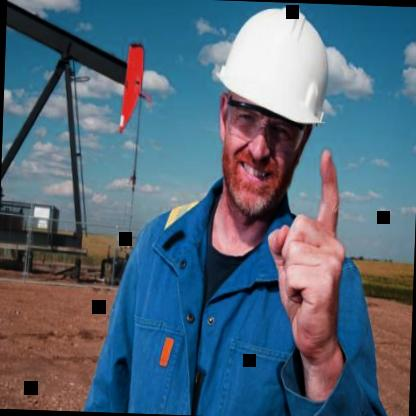helmet: (199, 0, 343, 238)
